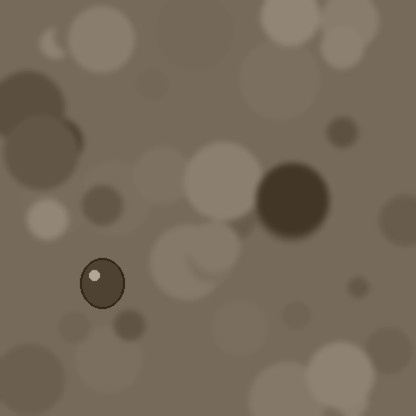gota: (80, 260, 124, 312)
